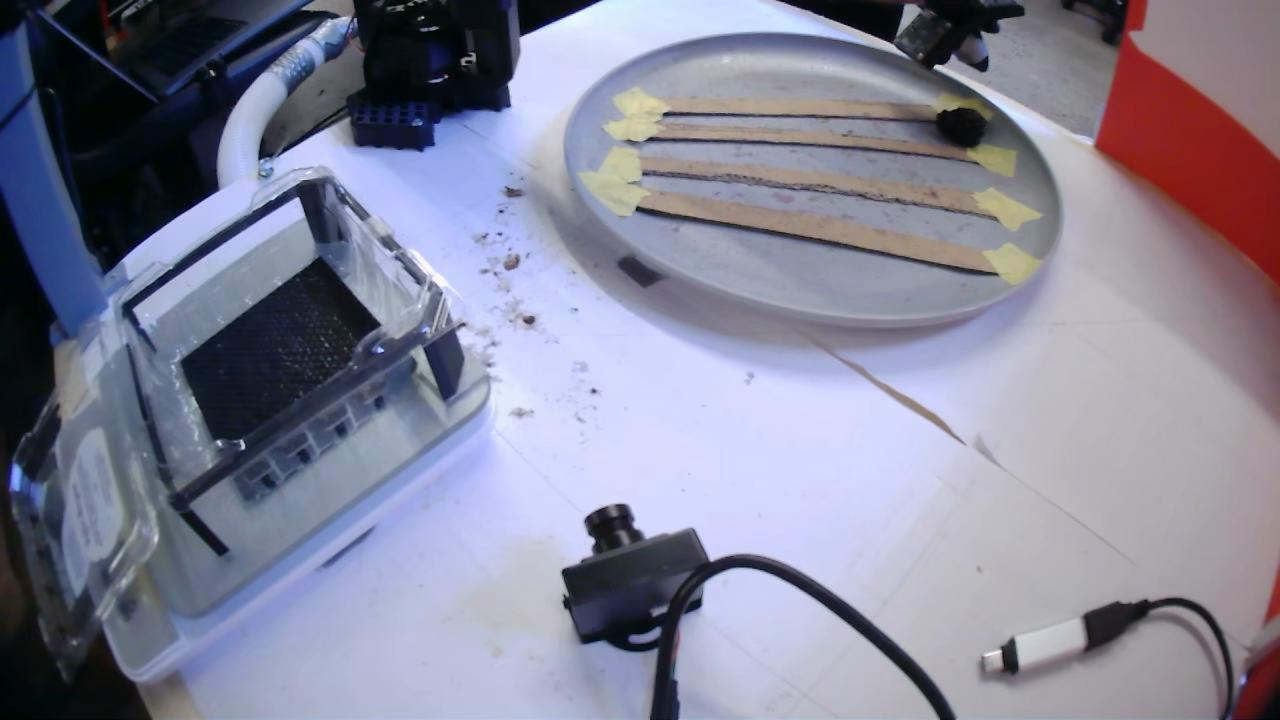berry: (935, 107, 988, 147)
